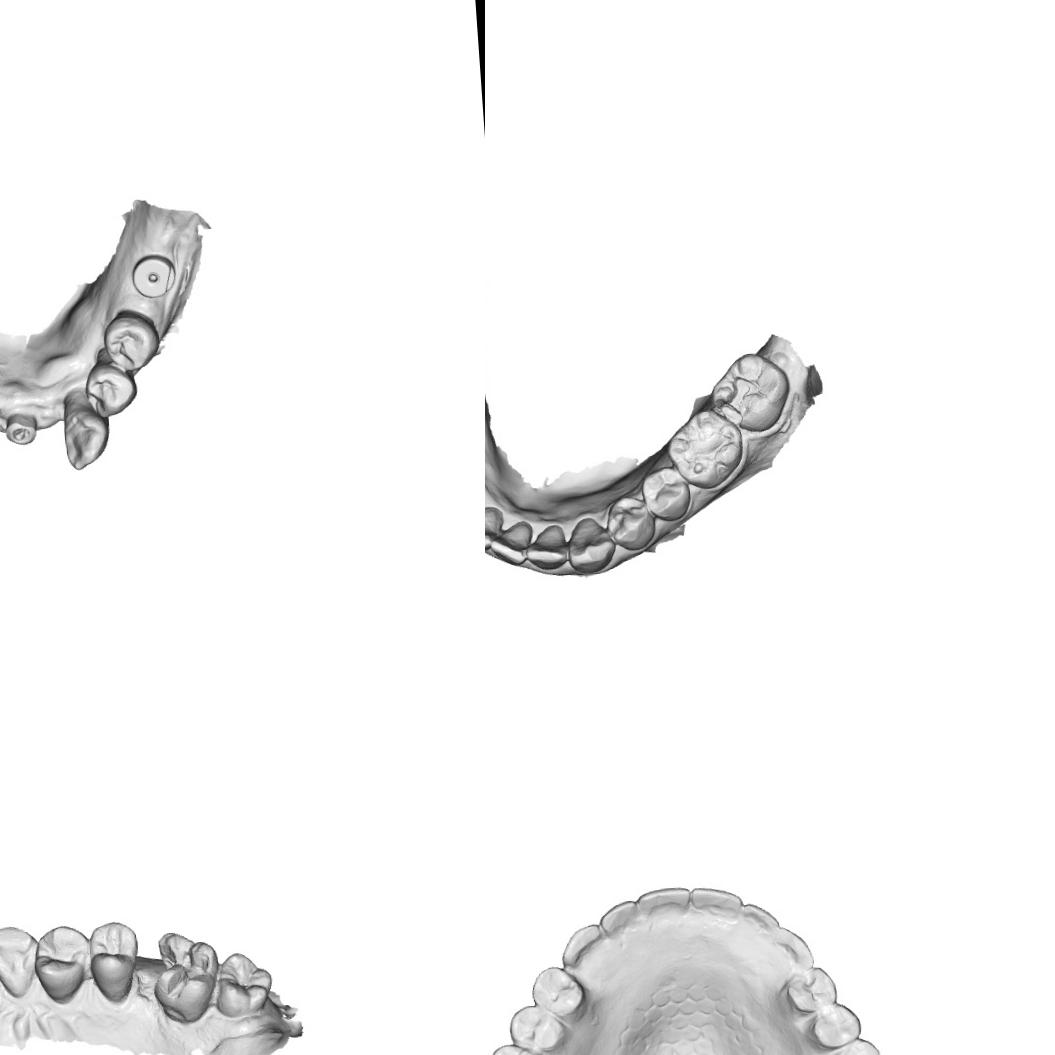canine: (56, 387, 112, 472), (0, 920, 45, 1006), (564, 512, 616, 575), (760, 925, 818, 973), (557, 920, 608, 971)
implant: (126, 249, 182, 303), (0, 407, 42, 451)
incisor: (633, 874, 695, 929), (520, 518, 572, 576), (734, 888, 786, 944), (690, 877, 744, 926), (485, 514, 533, 568), (595, 896, 643, 944), (485, 501, 505, 554)
inlay: (709, 366, 771, 428)
molar: (659, 403, 748, 493), (148, 925, 219, 1024), (210, 949, 278, 1025), (820, 1036, 900, 1055)
premolar: (30, 922, 93, 1009), (86, 920, 140, 1002), (98, 308, 162, 375), (526, 962, 592, 1026), (801, 995, 868, 1055), (780, 963, 844, 1020), (81, 358, 138, 420), (603, 492, 660, 554), (505, 1001, 568, 1055), (637, 466, 692, 524)
